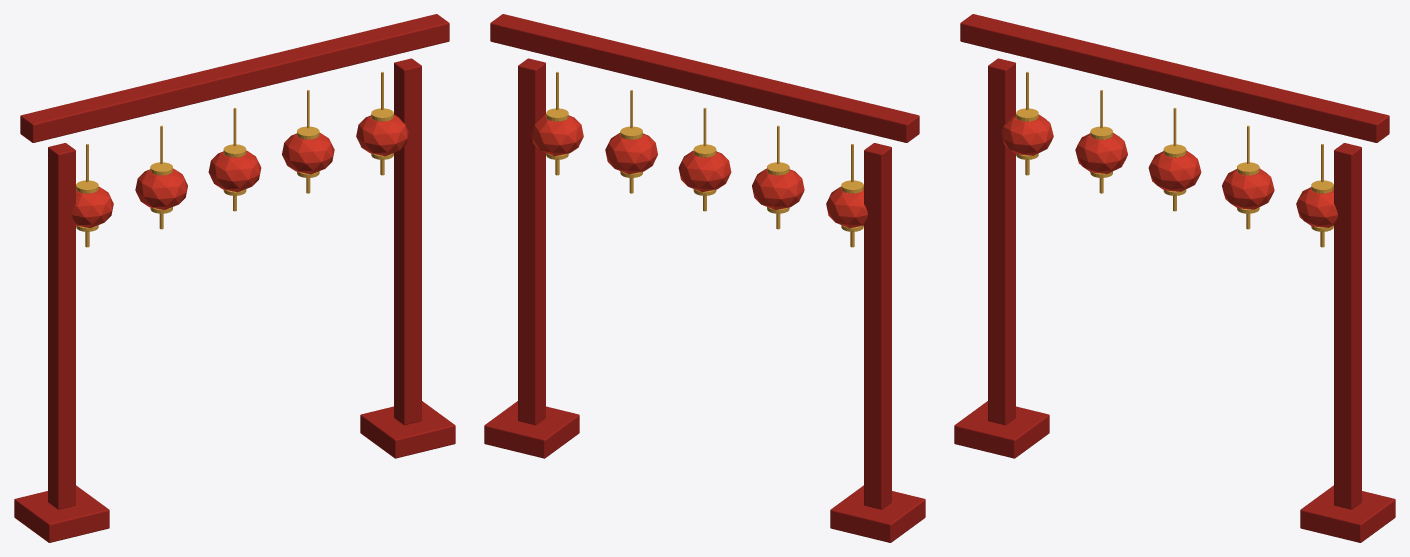
Rendered from source-edit.glb.
3 views of the same model, side by side, from view 1: azimuth 30°, elevation 25°; view 2: azimuth 150°, elevation 25°; view 3: azimuth 330°, elevation 25° (orthographic).
Parts seen in each view (by area): view 1: ARCH_Crossbeam, ARCH_Post.001, ARCH_Post, ARCH_Base.001, ARCH_Base, LANTERN_Shade.001, LANTERN_Shade.003, LANTERN_Shade.002, LANTERN_Shade.004, LANTERN_Shade; view 2: ARCH_Crossbeam, ARCH_Post.001, ARCH_Post, ARCH_Base.001, ARCH_Base, LANTERN_Shade.001, LANTERN_Shade.003, LANTERN_Shade.002, LANTERN_Shade.004, LANTERN_Shade; view 3: ARCH_Crossbeam, ARCH_Post, ARCH_Post.001, ARCH_Base, ARCH_Base.001, LANTERN_Shade.003, LANTERN_Shade.002, LANTERN_Shade.001, LANTERN_Shade, LANTERN_Shade.004.
Boxes of the visible parts, box(x1,y1,x2,y2) form: ARCH_Crossbeam: box(20, 14, 449, 142); ARCH_Post.001: box(48, 143, 75, 509); ARCH_Post: box(394, 58, 421, 425); ARCH_Base.001: box(14, 485, 109, 542); ARCH_Base: box(360, 401, 455, 458); LANTERN_Shade.001: box(135, 168, 187, 209); LANTERN_Shade.003: box(282, 133, 334, 174); LANTERN_Shade.002: box(208, 150, 261, 192); LANTERN_Shade.004: box(356, 114, 408, 156); LANTERN_Shade: box(72, 186, 113, 228); ARCH_Crossbeam: box(490, 14, 919, 142); ARCH_Post.001: box(864, 143, 891, 509); ARCH_Post: box(518, 58, 545, 425); ARCH_Base.001: box(830, 485, 925, 542); ARCH_Base: box(484, 401, 579, 458); LANTERN_Shade.001: box(752, 168, 804, 209); LANTERN_Shade.003: box(605, 133, 657, 174); LANTERN_Shade.002: box(678, 150, 731, 192); LANTERN_Shade.004: box(531, 114, 583, 156); LANTERN_Shade: box(826, 186, 867, 228); ARCH_Crossbeam: box(960, 14, 1389, 142); ARCH_Post: box(1334, 143, 1361, 509); ARCH_Post.001: box(988, 58, 1015, 425); ARCH_Base: box(1300, 485, 1395, 542); ARCH_Base.001: box(954, 401, 1049, 458); LANTERN_Shade.003: box(1222, 168, 1274, 209); LANTERN_Shade.002: box(1148, 150, 1201, 191); LANTERN_Shade.001: box(1075, 132, 1127, 173); LANTERN_Shade: box(1001, 114, 1053, 155); LANTERN_Shade.004: box(1296, 187, 1337, 227).
Size of the model in its own units: 4.1 by 3.87 by 0.6.
